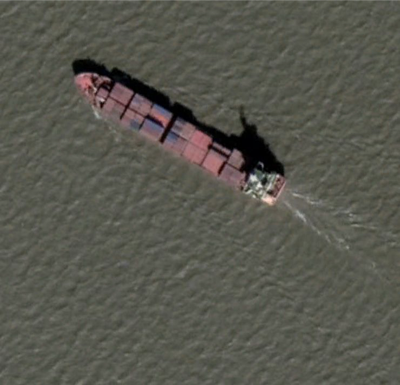boat: (72, 65, 288, 205)
